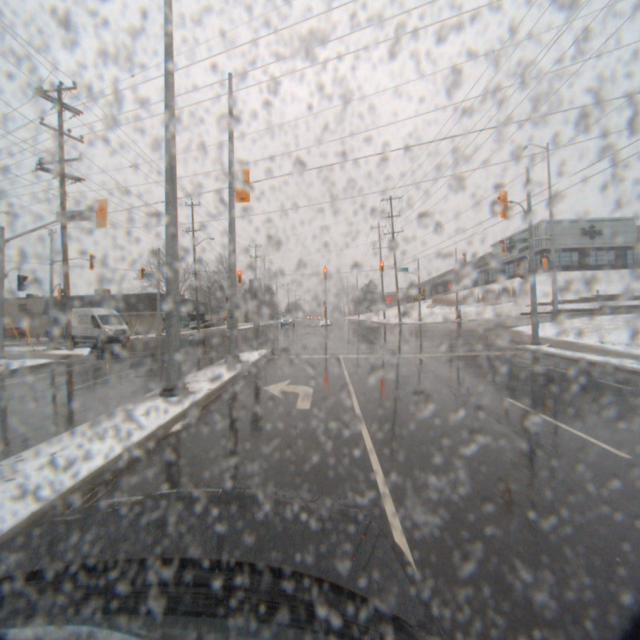Car: (54, 310, 131, 356)
